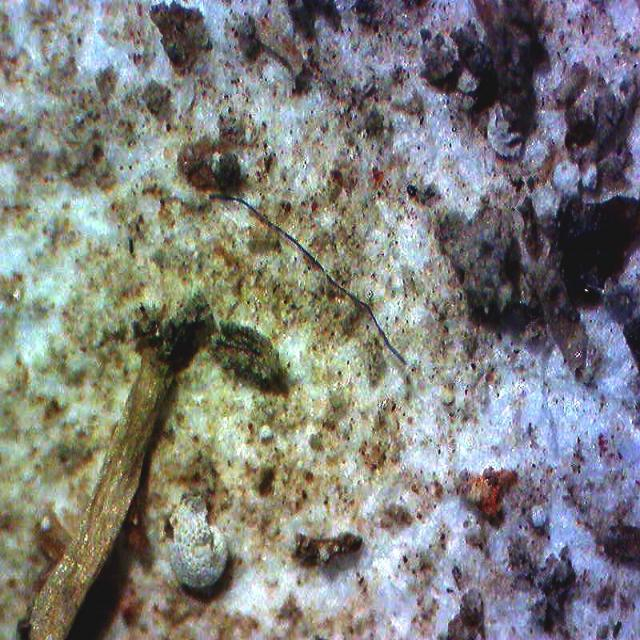microplastic: (210, 194, 407, 365)
